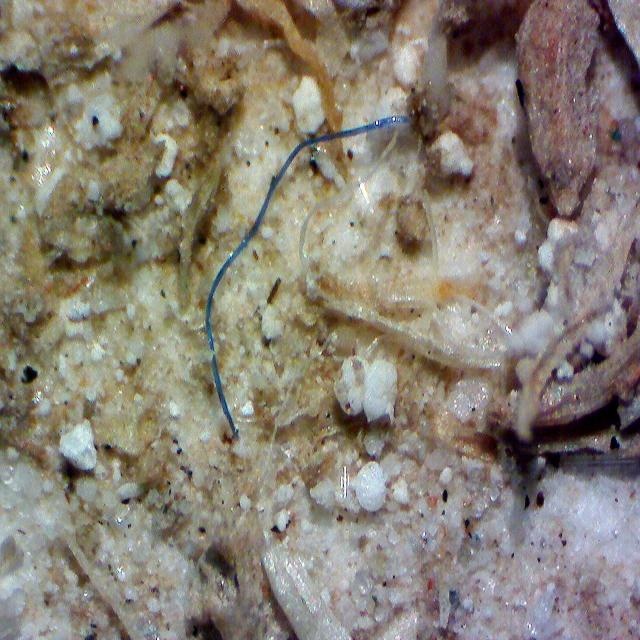microplastic: (206, 116, 409, 439)
